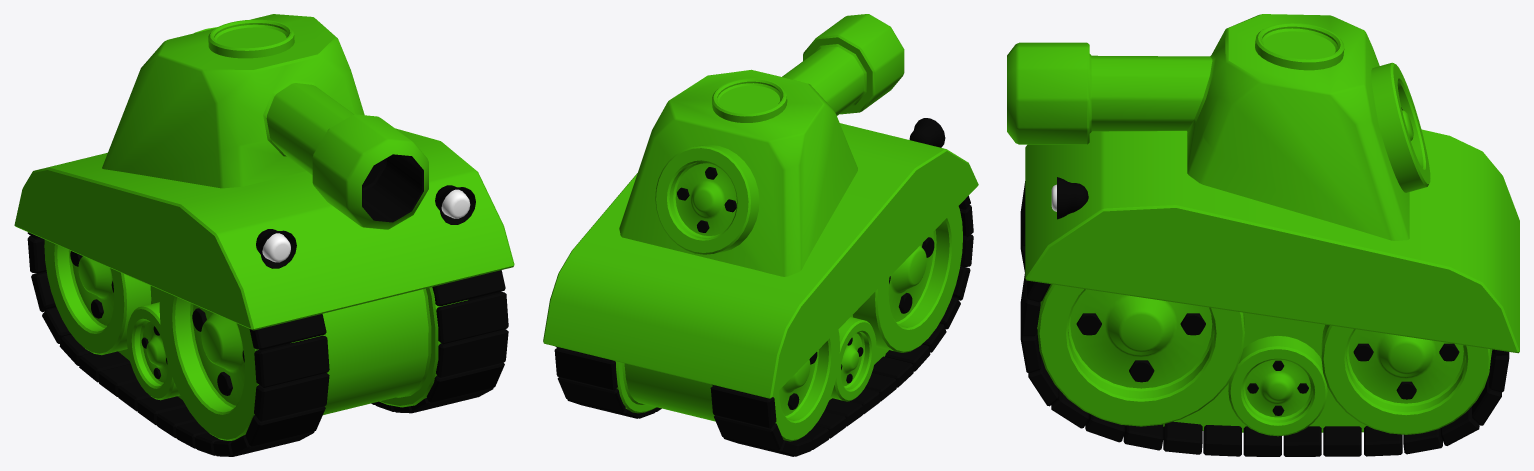
The model's file is VideoGames.fbx.
3 renders of one model, left to right at view 1: azimuth 30°, elevation 25°; view 2: azimuth 150°, elevation 25°; view 3: azimuth 270°, elevation 25°, orthographic. The views are drawn at different scales.
Parts seen in each view (by area): view 1: Torreta.007; view 2: Torreta.007; view 3: Torreta.007.
Part boxes in pixels (bbox=[...]): Torreta.007: bbox=[14, 14, 514, 456]; Torreta.007: bbox=[543, 14, 978, 456]; Torreta.007: bbox=[1007, 14, 1519, 456].
Size of the model in its own units: 147 by 185 by 240.
